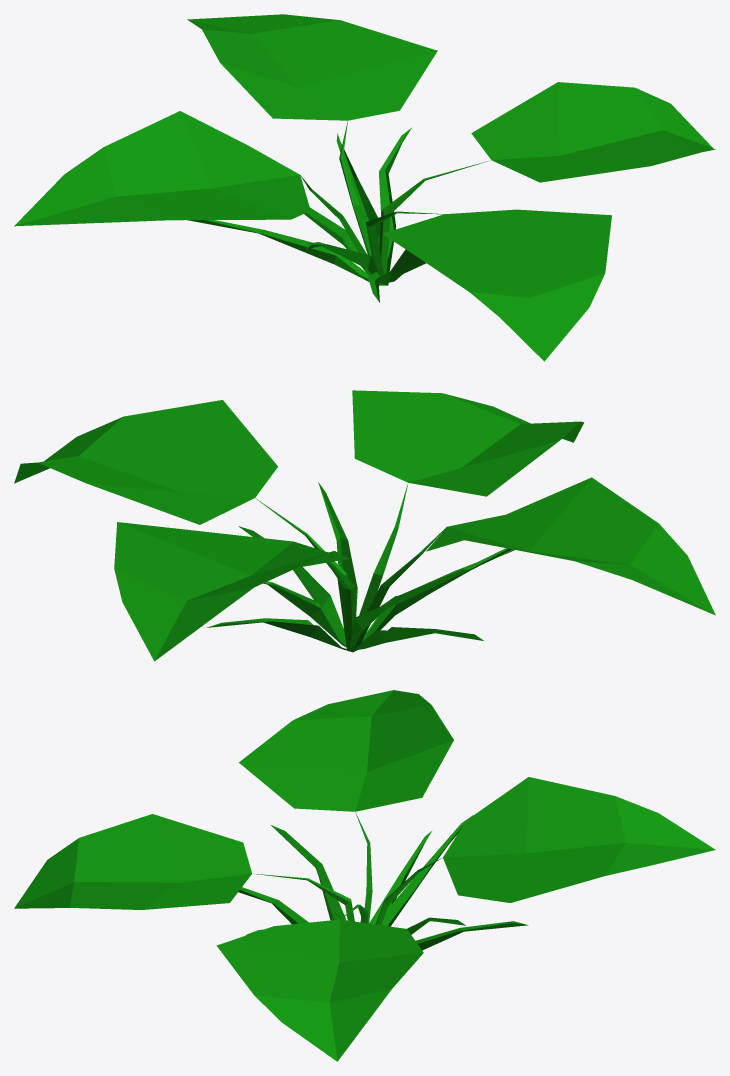
The model's file is plant_1.glb.
3 renders of one model, top to bottom at view 1: azimuth 30°, elevation 25°; view 2: azimuth 150°, elevation 25°; view 3: azimuth 270°, elevation 25°, orthographic. The views are drawn at different scales.
Parts seen in each view (by area): view 1: Plane.008; view 2: Plane.008; view 3: Plane.008.
Boxes of the visible parts, x1=… form: Plane.008: x1=14, y1=14, x2=715, y2=361; Plane.008: x1=14, y1=390, x2=715, y2=661; Plane.008: x1=14, y1=690, x2=715, y2=1061.
Bounding box in the file's own units: 5.4 × 1.34 × 5.17.
